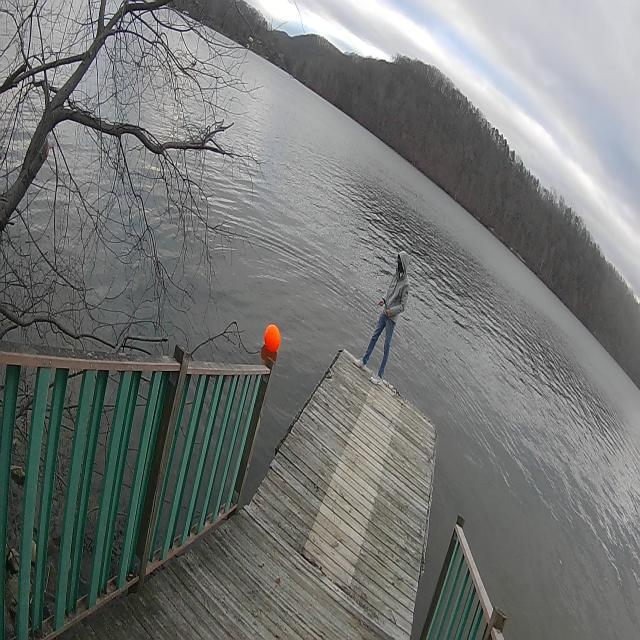Buoy: (262, 318, 282, 358)
